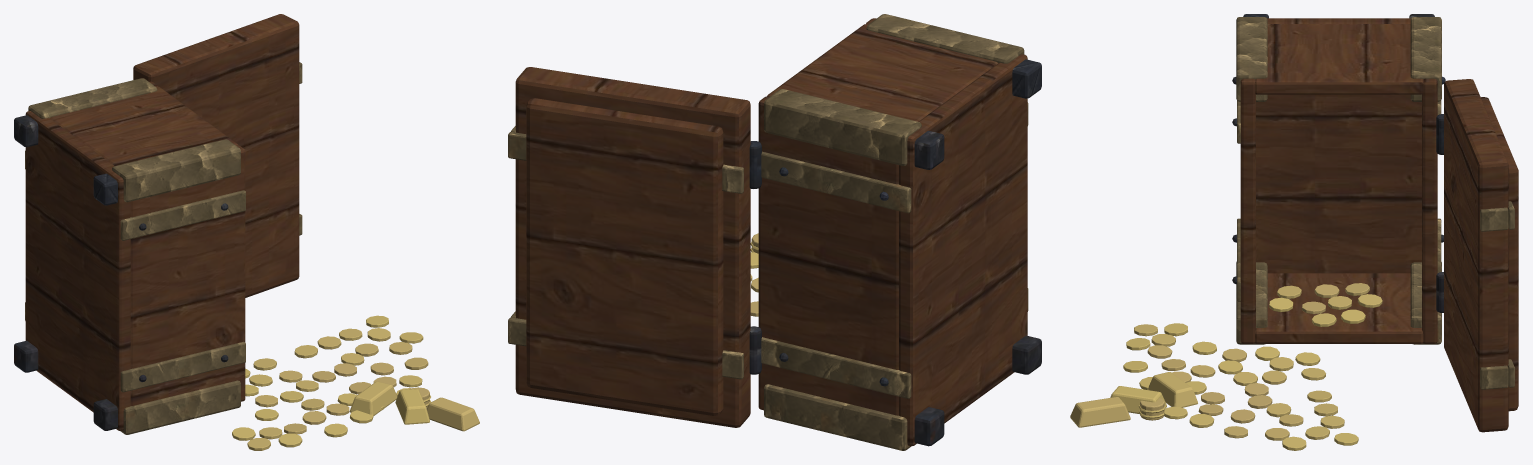
The model's file is bv_coin_chest_tipped.glb.
The picture shows the model from 3 angles, left to right: view 1: azimuth 30°, elevation 25°; view 2: azimuth 150°, elevation 25°; view 3: azimuth 270°, elevation 25°; orthographic projection. The views are drawn at different scales.
Parts seen in each view (by area): view 1: model; view 2: model; view 3: model.
Part boxes in pixels (x1,y1,x2,y2): model: [14, 14, 479, 450]; model: [508, 14, 1041, 450]; model: [1070, 14, 1518, 450].
Bounding box in the file's own units: 0.7921 × 0.578 × 0.8645.
Materials: 45 (3 with a texture image).
